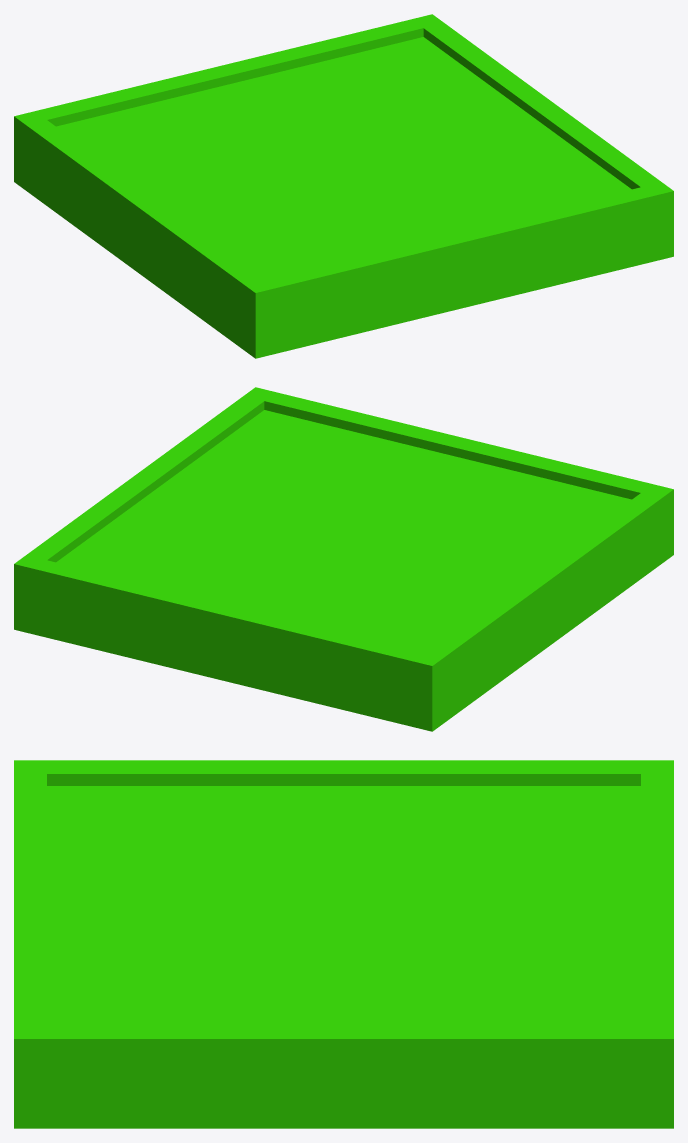
Rendered from flowerbed_2x2_empty.fbx.
The picture shows the model from 3 angles, top to bottom: view 1: azimuth 30°, elevation 25°; view 2: azimuth 150°, elevation 25°; view 3: azimuth 270°, elevation 25°; orthographic projection. The views are drawn at different scales.
Visible parts, largest first — view 1: flowerbed_2x2_empty; view 2: flowerbed_2x2_empty; view 3: flowerbed_2x2_empty.
Boxes of the visible parts, <box> form: flowerbed_2x2_empty: <box>14,14,673,358</box>; flowerbed_2x2_empty: <box>14,387,673,731</box>; flowerbed_2x2_empty: <box>14,760,673,1128</box>.
Size of the model in its own units: 200 by 30 by 200.
